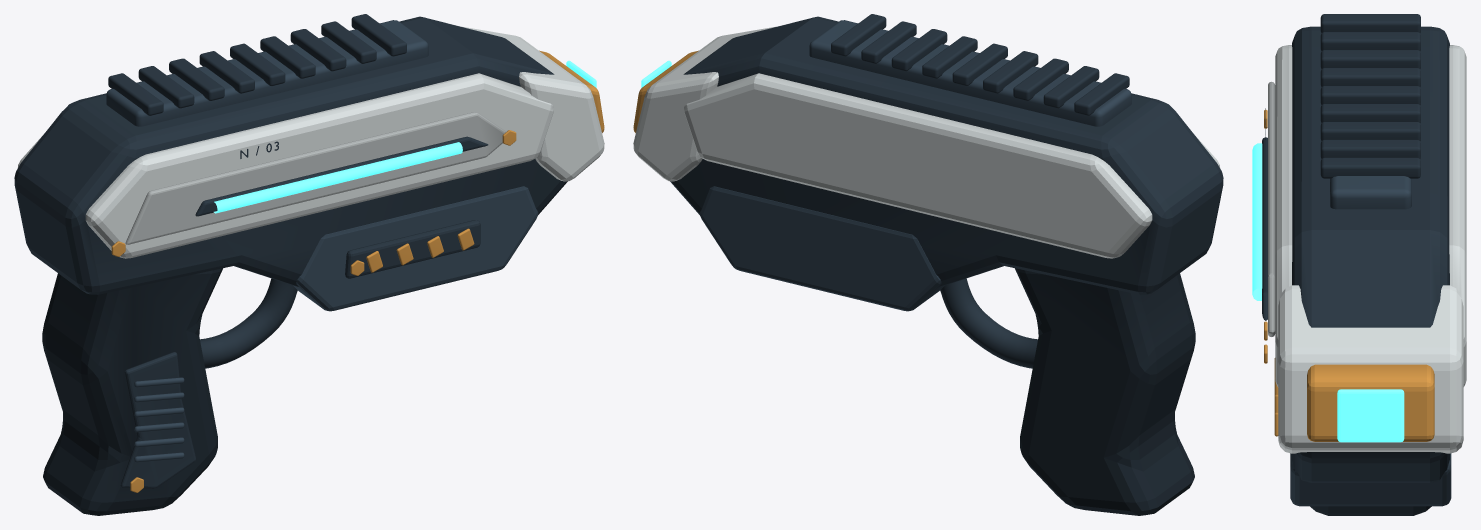
3 views of the same model, side by side, from view 1: azimuth 30°, elevation 25°; view 2: azimuth 150°, elevation 25°; view 3: azimuth 270°, elevation 25° (orthographic). The views are drawn at different scales.
Visible parts, largest first — view 1: Estrutura de grafite · estrutura, Placas cerâmicas · carcaca, Estrutura de grafite · estrutura__empunhadura, Estrutura de grafite · estrutura__aço, Placas cerâmicas · carcaca__chanfros, Lentes e energia · energia, Ligas de cobre · detalhes; view 2: Estrutura de grafite · estrutura, Placas cerâmicas · carcaca, Estrutura de grafite · estrutura__empunhadura, Estrutura de grafite · estrutura__aço; view 3: Estrutura de grafite · estrutura, Placas cerâmicas · carcaca, Ligas de cobre · detalhes, Estrutura de grafite · estrutura__aço, Lentes e energia · energia, Placas cerâmicas · carcaca__chanfros, Estrutura de grafite · estrutura__empunhadura.
Boxes of the visible parts, x1,y1,x2,y2 form: Estrutura de grafite · estrutura: (14,14,567,488); Placas cerâmicas · carcaca: (18,26,604,258); Estrutura de grafite · estrutura__empunhadura: (42,268,222,515); Estrutura de grafite · estrutura__aço: (106,20,538,462); Placas cerâmicas · carcaca__chanfros: (125,112,506,244); Lentes e energia · energia: (214,60,596,213); Ligas de cobre · detalhes: (111,50,604,492); Estrutura de grafite · estrutura: (670,14,1223,368); Placas cerâmicas · carcaca: (633,26,1219,258); Estrutura de grafite · estrutura__empunhadura: (1015,268,1195,515); Estrutura de grafite · estrutura__aço: (699,20,1131,311); Estrutura de grafite · estrutura: (1262,14,1449,482); Placas cerâmicas · carcaca: (1275,45,1466,453); Ligas de cobre · detalhes: (1264,109,1434,441); Estrutura de grafite · estrutura__aço: (1290,176,1451,506); Lentes e energia · energia: (1252,143,1404,442); Placas cerâmicas · carcaca__chanfros: (1268,81,1275,336); Estrutura de grafite · estrutura__empunhadura: (1310,506,1431,515).
Size of the model in its own units: 2.5 by 1.79 by 0.705.
